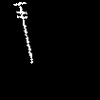treble_crochet: (14, 2, 32, 62)
